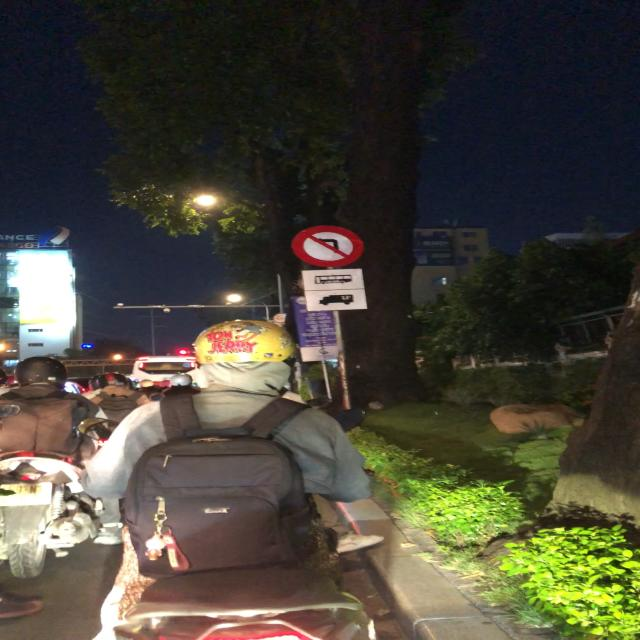Bien bao cam re trai: (288, 223, 368, 270)
